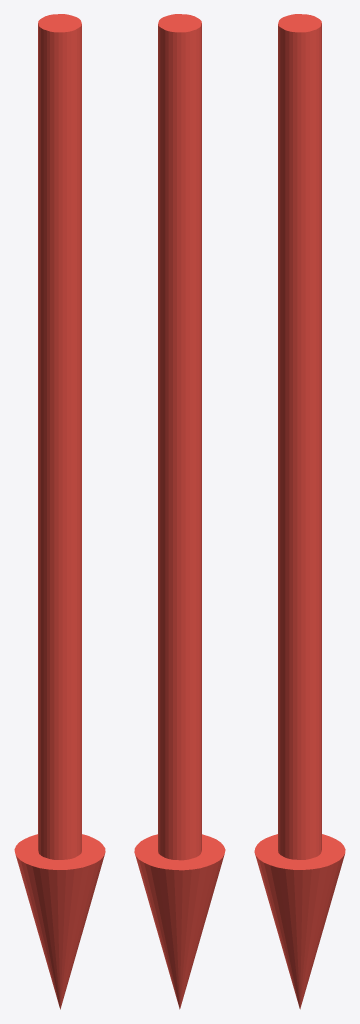
The model's file is Axis 1_N2.gltf.
3 renders of one model, left to right at view 1: azimuth 30°, elevation 25°; view 2: azimuth 150°, elevation 25°; view 3: azimuth 330°, elevation 25°, orthographic.
Visible parts, largest first — view 1: Eje_Cono.001_Eje_Cono.011; view 2: Eje_Cono.001_Eje_Cono.011; view 3: Eje_Cono.001_Eje_Cono.011.
Boxes of the visible parts, left/top/right/bottom form: Eje_Cono.001_Eje_Cono.011: left=14, top=14, right=105, bottom=1009; Eje_Cono.001_Eje_Cono.011: left=134, top=14, right=225, bottom=1009; Eje_Cono.001_Eje_Cono.011: left=254, top=14, right=345, bottom=1009.
Size of the model in its own units: 0.1509 by 1.81 by 0.1509.
